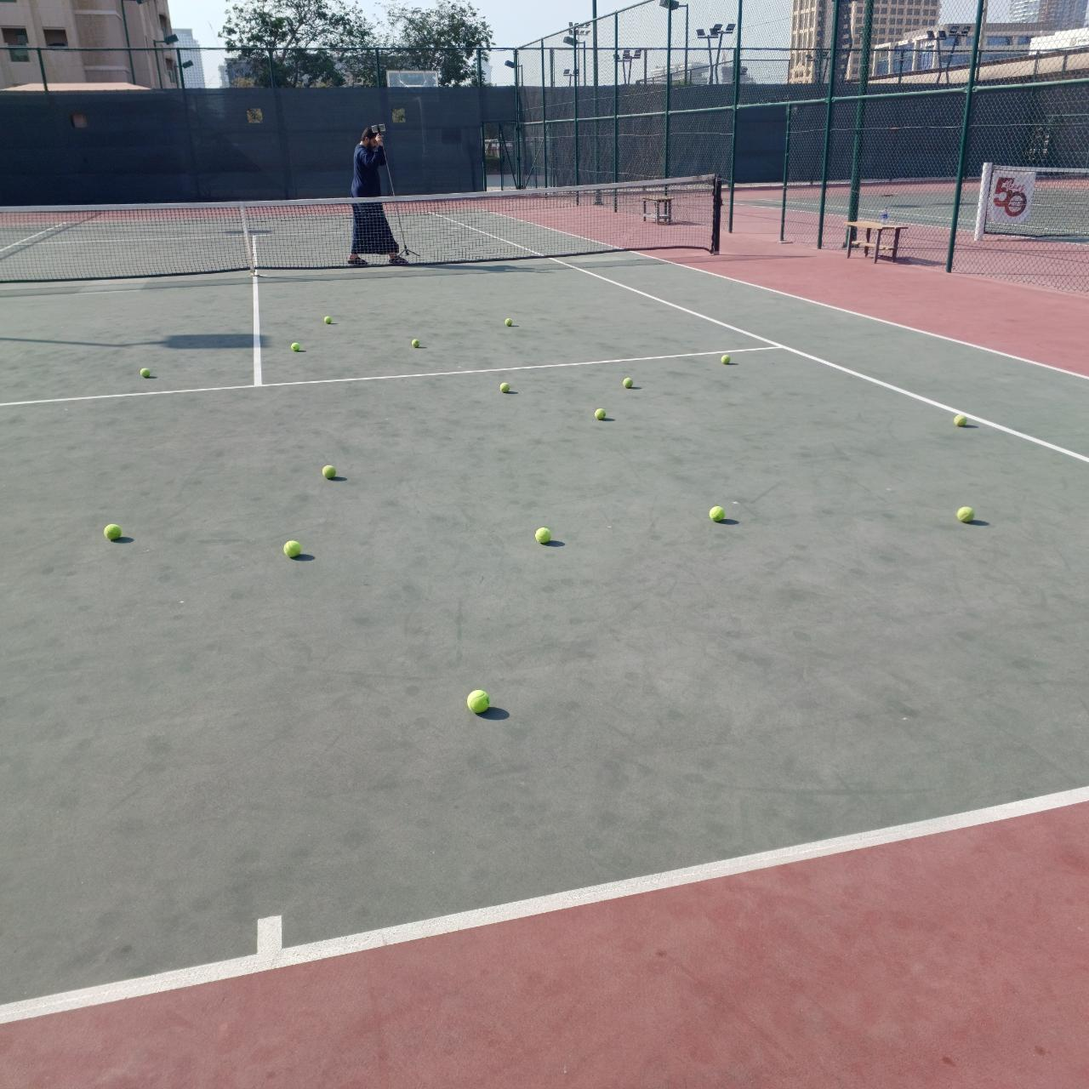tennis-ball: (465, 687, 490, 714), (102, 521, 122, 540), (282, 538, 301, 558), (533, 524, 552, 544), (955, 504, 973, 522), (709, 505, 726, 523), (952, 413, 968, 428), (321, 462, 335, 478), (594, 408, 607, 421), (139, 367, 151, 379), (500, 382, 511, 394), (622, 377, 633, 389), (721, 354, 731, 365), (290, 342, 300, 352), (504, 318, 514, 328), (411, 339, 420, 349), (324, 315, 332, 325)
